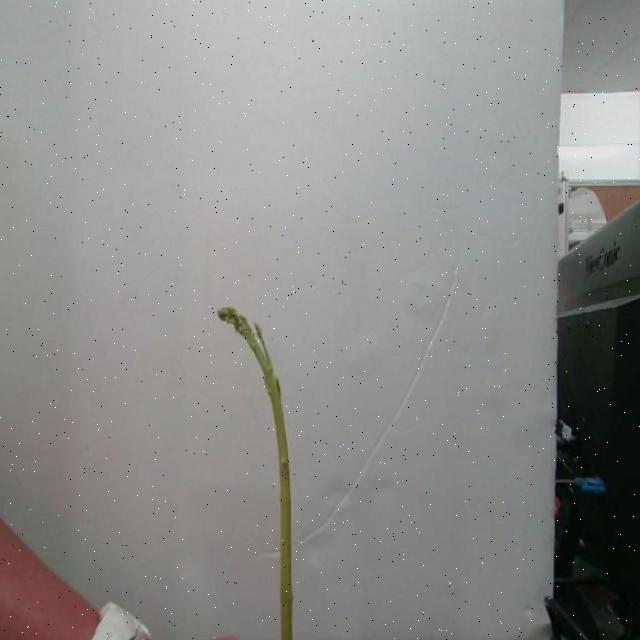aspargus: (215, 307, 293, 640)
